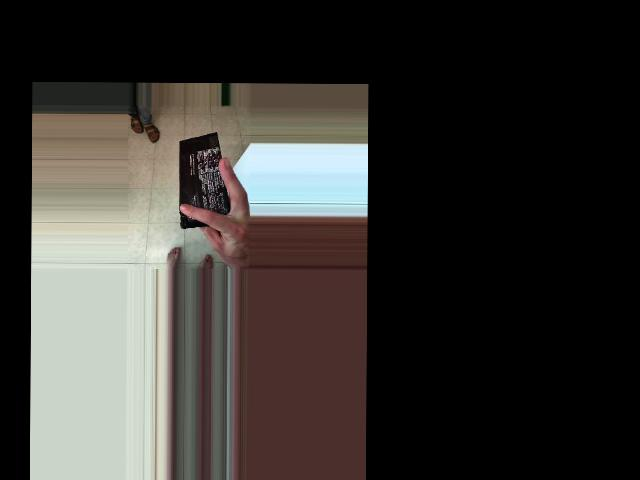chocolate: (175, 125, 234, 236)
